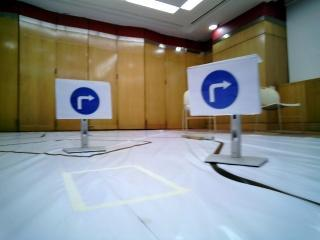right: (193, 65, 252, 112), (60, 80, 106, 118)
